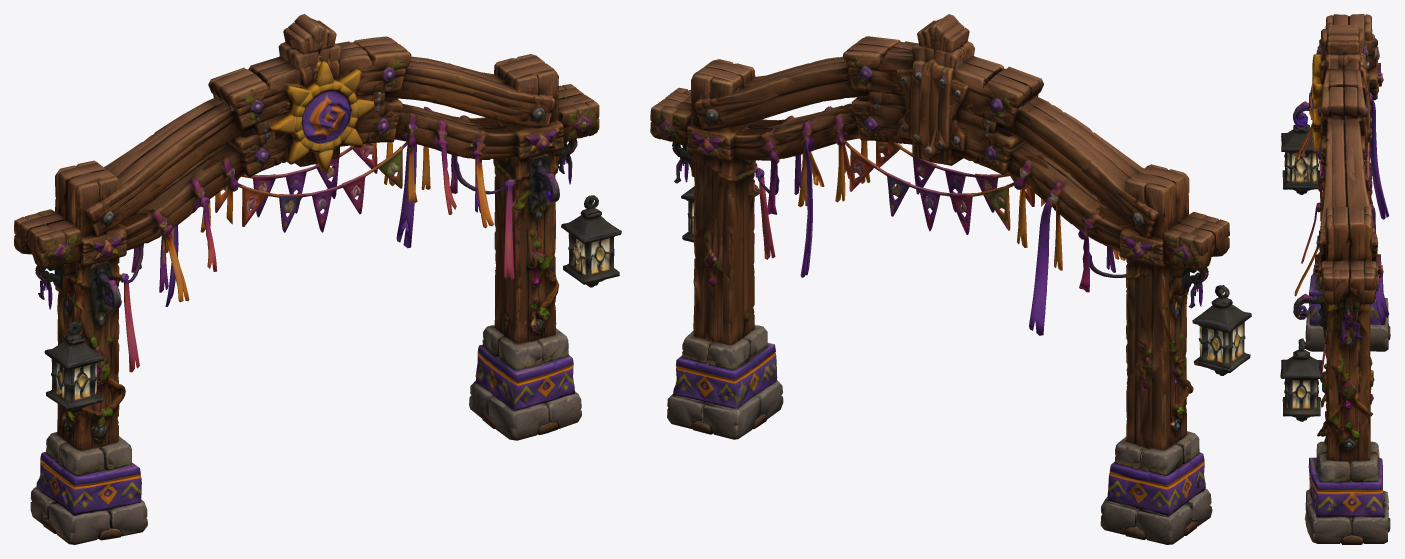
File: arco_decorativo.glb
The picture shows the model from 3 angles, left to right: view 1: azimuth 30°, elevation 25°; view 2: azimuth 150°, elevation 25°; view 3: azimuth 270°, elevation 25°; orthographic projection. The views are drawn at different scales.
Parts seen in each view (by area): view 1: arco_decorativo; view 2: arco_decorativo; view 3: arco_decorativo.
Part boxes in pixels (x1,y1,x2,y2): arco_decorativo: (14, 14, 621, 544); arco_decorativo: (650, 14, 1251, 544); arco_decorativo: (1280, 14, 1390, 544).
Size of what is drawn, in the model's own units: 3.87 by 3 by 0.7354.
1 material, 1 textured.
